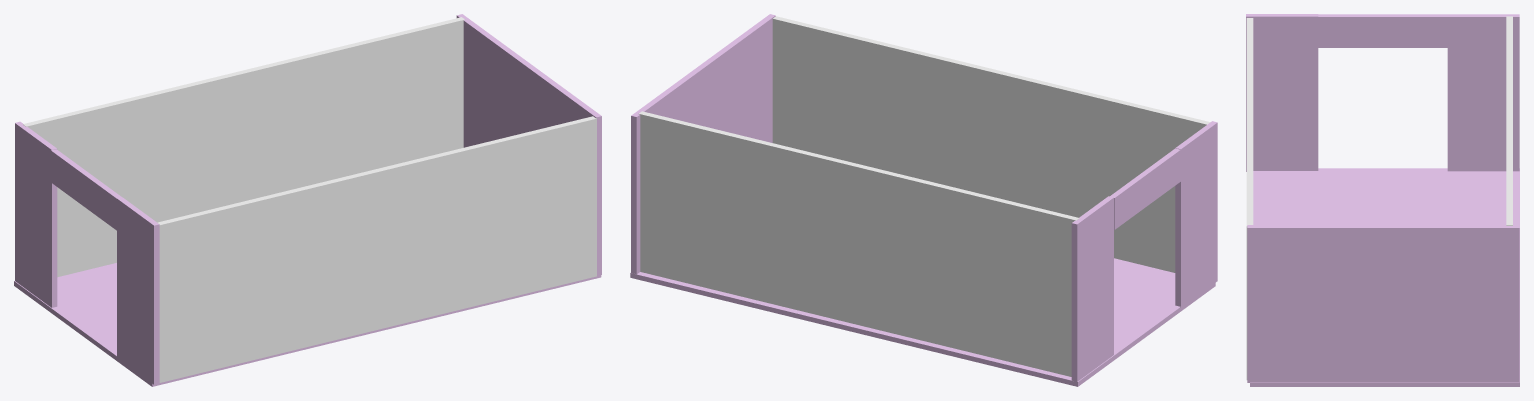
File: pisob.obj
3 renders of one model, left to right at view 1: azimuth 30°, elevation 25°; view 2: azimuth 150°, elevation 25°; view 3: azimuth 270°, elevation 25°, orthographic. The views are drawn at different scales.
Visible parts, largest first — view 1: pasted__pasted__pCube2pasted__groupgroup3, pasted__pCube2group, pCube4, pCube2, pCube1; view 2: pasted__pCube2group, pasted__pasted__pCube2pasted__groupgroup3, pCube4, pCube2, pCube1; view 3: pCube2, pCube4, pCube1, pasted__pasted__pCube2pasted__groupgroup3, pasted__pCube2group.
Boxes of the visible parts, box(x1,y1,x2,y2) form: pasted__pasted__pCube2pasted__groupgroup3: box(157, 116, 596, 382); pasted__pCube2group: box(23, 17, 464, 277); pCube4: box(15, 121, 159, 384); pCube2: box(456, 14, 601, 275); pCube1: box(14, 263, 601, 386); pasted__pCube2group: box(639, 111, 1079, 376); pasted__pasted__pCube2pasted__groupgroup3: box(772, 16, 1210, 272); pCube4: box(1071, 121, 1217, 381); pCube2: box(631, 14, 775, 274); pCube1: box(630, 258, 1215, 386); pCube2: box(1247, 225, 1519, 382); pCube4: box(1246, 14, 1519, 171); pCube1: box(1250, 168, 1519, 386); pasted__pasted__pCube2pasted__groupgroup3: box(1246, 18, 1253, 379); pasted__pCube2group: box(1506, 16, 1512, 225).
Bounding box in the file's own units: 7.22 × 2.5 × 3.9.
5 materials, 5 textured.
